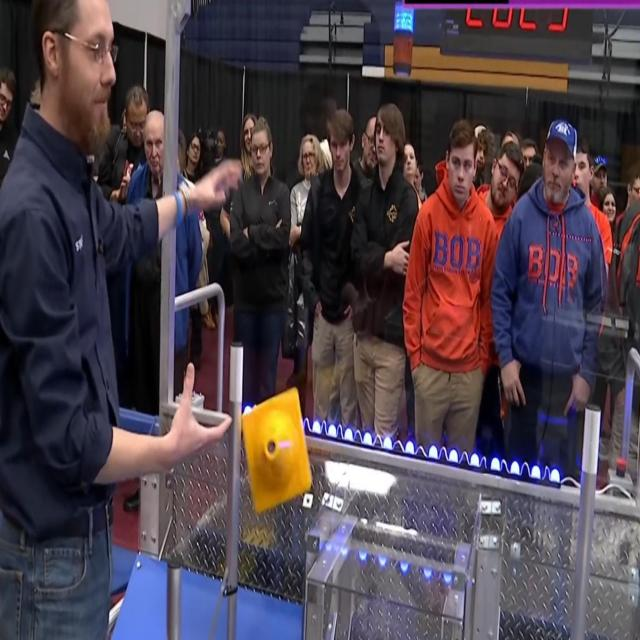frc_cone: (241, 384, 313, 510)
